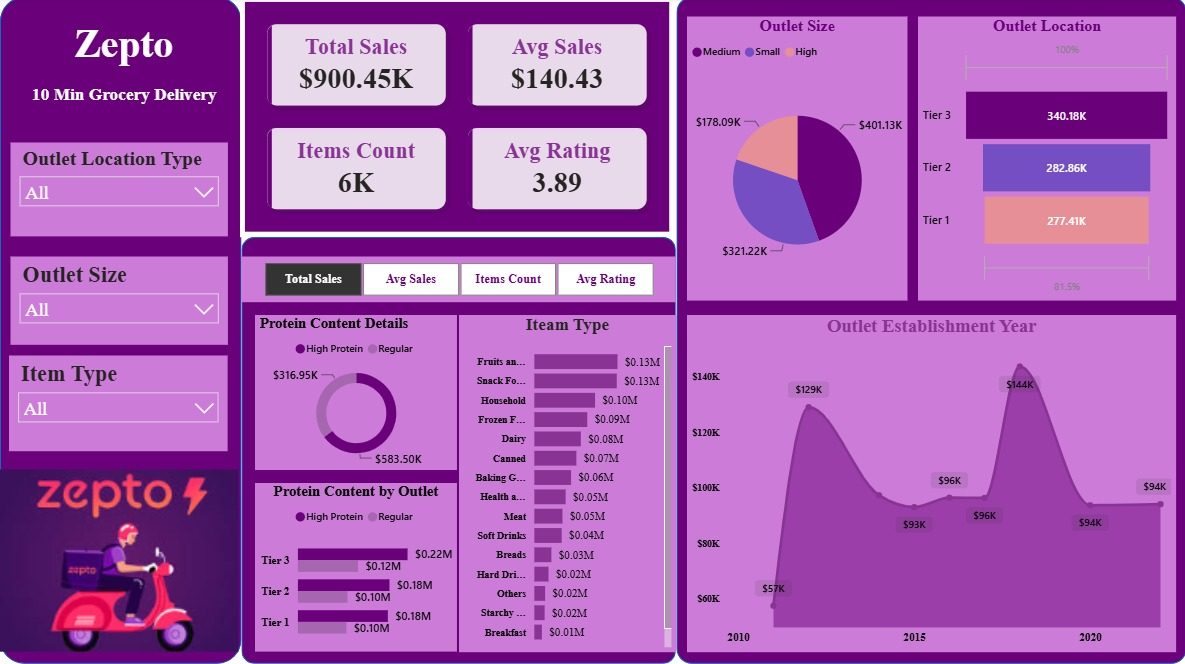

Layout of this report page (visuals, bound fields, positions):
{"tool":"powerbi","page":{"name":"Zepto Sales","canvas":[1280,720],"ordinal":0},"visuals":[{"type":"shape","box":[0,0,260.7,719.7],"z":0},{"type":"textbox","box":[9.8,21.3,247.5,67.2],"z":1000},{"type":"textbox","box":[11.5,88.5,245.9,42.6],"z":2000},{"type":"slicer","fields":{"Values":["Zepto Grocery Sales.Outlet Location Type"]},"box":[11.5,157.4,234.4,101.6],"z":3000},{"type":"slicer","fields":{"Values":["Zepto Grocery Sales.Outlet Size"]},"box":[11.5,280.3,234.4,95.1],"z":4000},{"type":"slicer","fields":{"Values":["Zepto Grocery Sales.Item Type"]},"box":[9.8,386.9,236.1,103.3],"z":5000},{"type":"image","box":[0,509.8,257.4,196.7],"z":6000},{"type":"cardVisual","fields":{"Data":["Zepto Grocery Sales.Total Sales","Zepto Grocery Sales.Avg Sales","Zepto Grocery Sales.Items Count","Zepto Grocery Sales.Avg Rating"]},"box":[259,0,468.9,259],"z":7000},{"type":"shape","box":[260.7,259,468.9,460.7],"z":8000},{"type":"slicer","fields":{"Values":["Metrics.Parameter"]},"box":[260.7,280.3,468.9,49.2],"z":9000},{"type":"donutChart","title":"Protein Content Details","fields":{"Y":["Zepto Grocery Sales.Total Sales"],"Category":["Zepto Grocery Sales.Item Protein Content"]},"box":[275.4,342.6,218,167.2],"z":10000},{"type":"clusteredBarChart","title":"Protein Content by Outlet","fields":{"Y":["Zepto Grocery Sales.Total Sales"],"Series":["Zepto Grocery Sales.Item Protein Content"],"Category":["Zepto Grocery Sales.Outlet Location Type"]},"box":[275.4,524.6,218,182],"z":11000},{"type":"barChart","title":"Iteam Type","fields":{"Y":["Zepto Grocery Sales.Total Sales"],"Category":["Zepto Grocery Sales.Item Type"]},"box":[495.1,342.6,234.4,363.9],"z":12000},{"type":"shape","box":[729.5,0,550.8,719.7],"z":13000},{"type":"pieChart","title":"Outlet Size","fields":{"Y":["Zepto Grocery Sales.Total Sales"],"Category":["Zepto Grocery Sales.Outlet Size"]},"box":[741,21.3,237.7,306.6],"z":14000},{"type":"funnel","title":"Outlet Location","fields":{"Category":["Zepto Grocery Sales.Outlet Location Type"],"Y":["Sum(Zepto Grocery Sales.Sales)"]},"box":[990.2,21.3,278.7,306.6],"z":15000},{"type":"lineChart","title":"Outlet Establishment Year","fields":{"Y":["Zepto Grocery Sales.Total Sales"],"Category":["Zepto Grocery Sales.Outlet Establishment Year.Variation.Date Hierarchy.Month"]},"box":[741,342.6,527.9,363.9],"z":16000}]}

Visuals, with their boxes in screenshot pixels (x1, y1, x2, y2), scaled from the page's 1280x720 canvas onto the 1185x664 screenshot:
shape: bbox=[0, 0, 241, 663]
textbox: bbox=[9, 20, 238, 82]
textbox: bbox=[11, 82, 238, 121]
slicer - Zepto Grocery Sales.Outlet Location Type: bbox=[11, 145, 228, 239]
slicer - Zepto Grocery Sales.Outlet Size: bbox=[11, 258, 228, 346]
slicer - Zepto Grocery Sales.Item Type: bbox=[9, 357, 228, 452]
image: bbox=[0, 470, 238, 652]
cardVisual - Zepto Grocery Sales.Total Sales x Zepto Grocery Sales.Avg Sales: bbox=[240, 0, 674, 239]
shape: bbox=[241, 239, 675, 663]
slicer - Metrics.Parameter: bbox=[241, 258, 675, 304]
"Protein Content Details" donutChart: bbox=[255, 316, 457, 470]
"Protein Content by Outlet" clusteredBarChart: bbox=[255, 484, 457, 652]
"Iteam Type" barChart: bbox=[458, 316, 675, 652]
shape: bbox=[675, 0, 1184, 663]
"Outlet Size" pieChart: bbox=[686, 20, 906, 302]
"Outlet Location" funnel: bbox=[917, 20, 1175, 302]
"Outlet Establishment Year" lineChart: bbox=[686, 316, 1175, 652]
